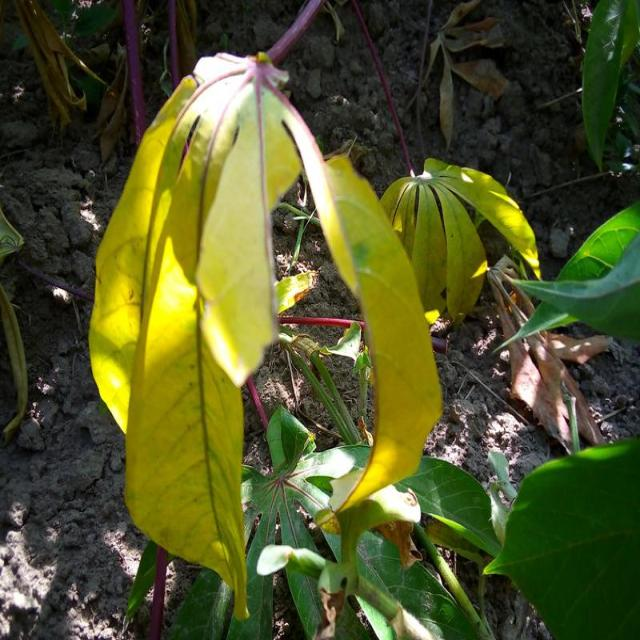cassava leaf: (88, 49, 445, 626), (483, 435, 640, 638), (493, 200, 640, 355)
